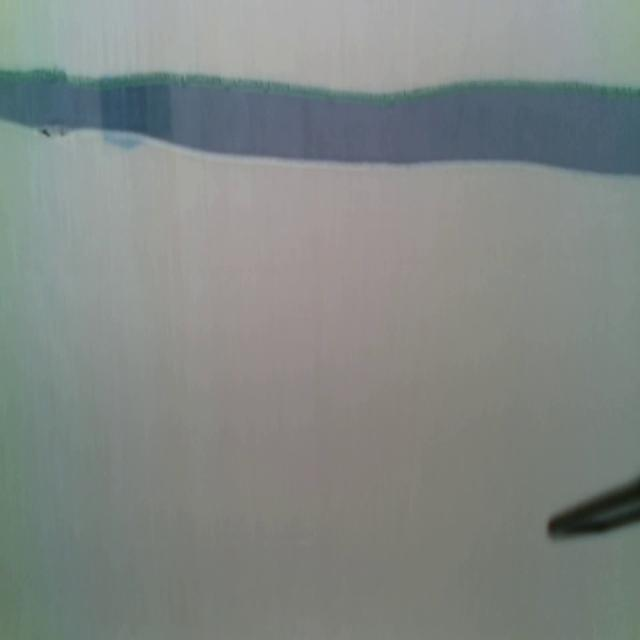color bleeding: (0, 63, 640, 191)
